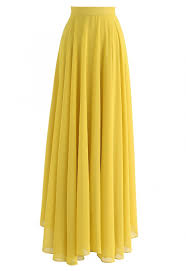C_skirt: (30, 3, 156, 268)
